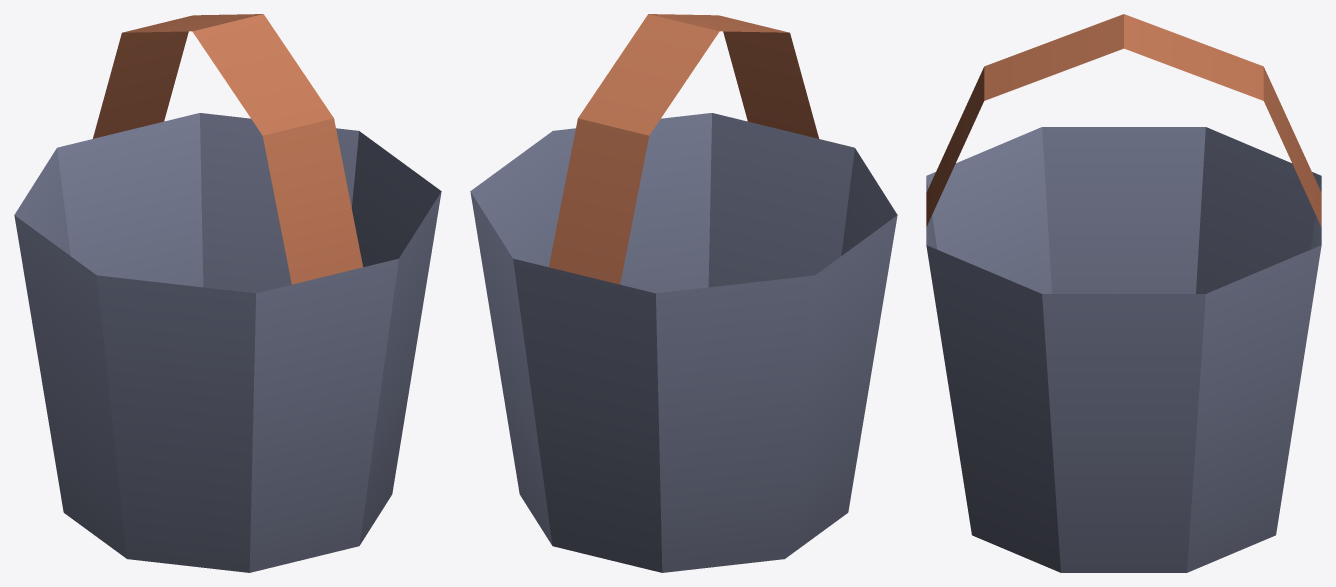
File: bucket.lod.glb
3 renders of one model, left to right at view 1: azimuth 30°, elevation 25°; view 2: azimuth 150°, elevation 25°; view 3: azimuth 270°, elevation 25°, orthographic.
Parts seen in each view (by area): view 1: m; view 2: m; view 3: m.
Boxes of the visible parts, box(x1,y1,x2,y2) form: m: box(14, 14, 441, 572); m: box(470, 14, 897, 572); m: box(926, 14, 1321, 572).
Bounding box in the file's own units: 0.1051 × 0.14 × 0.1051.
